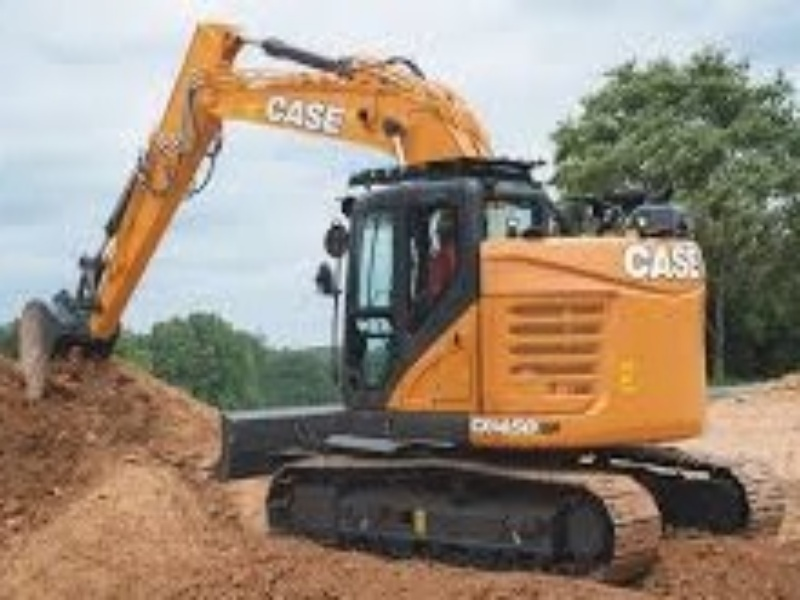wajueji: (255, 100, 790, 600)
